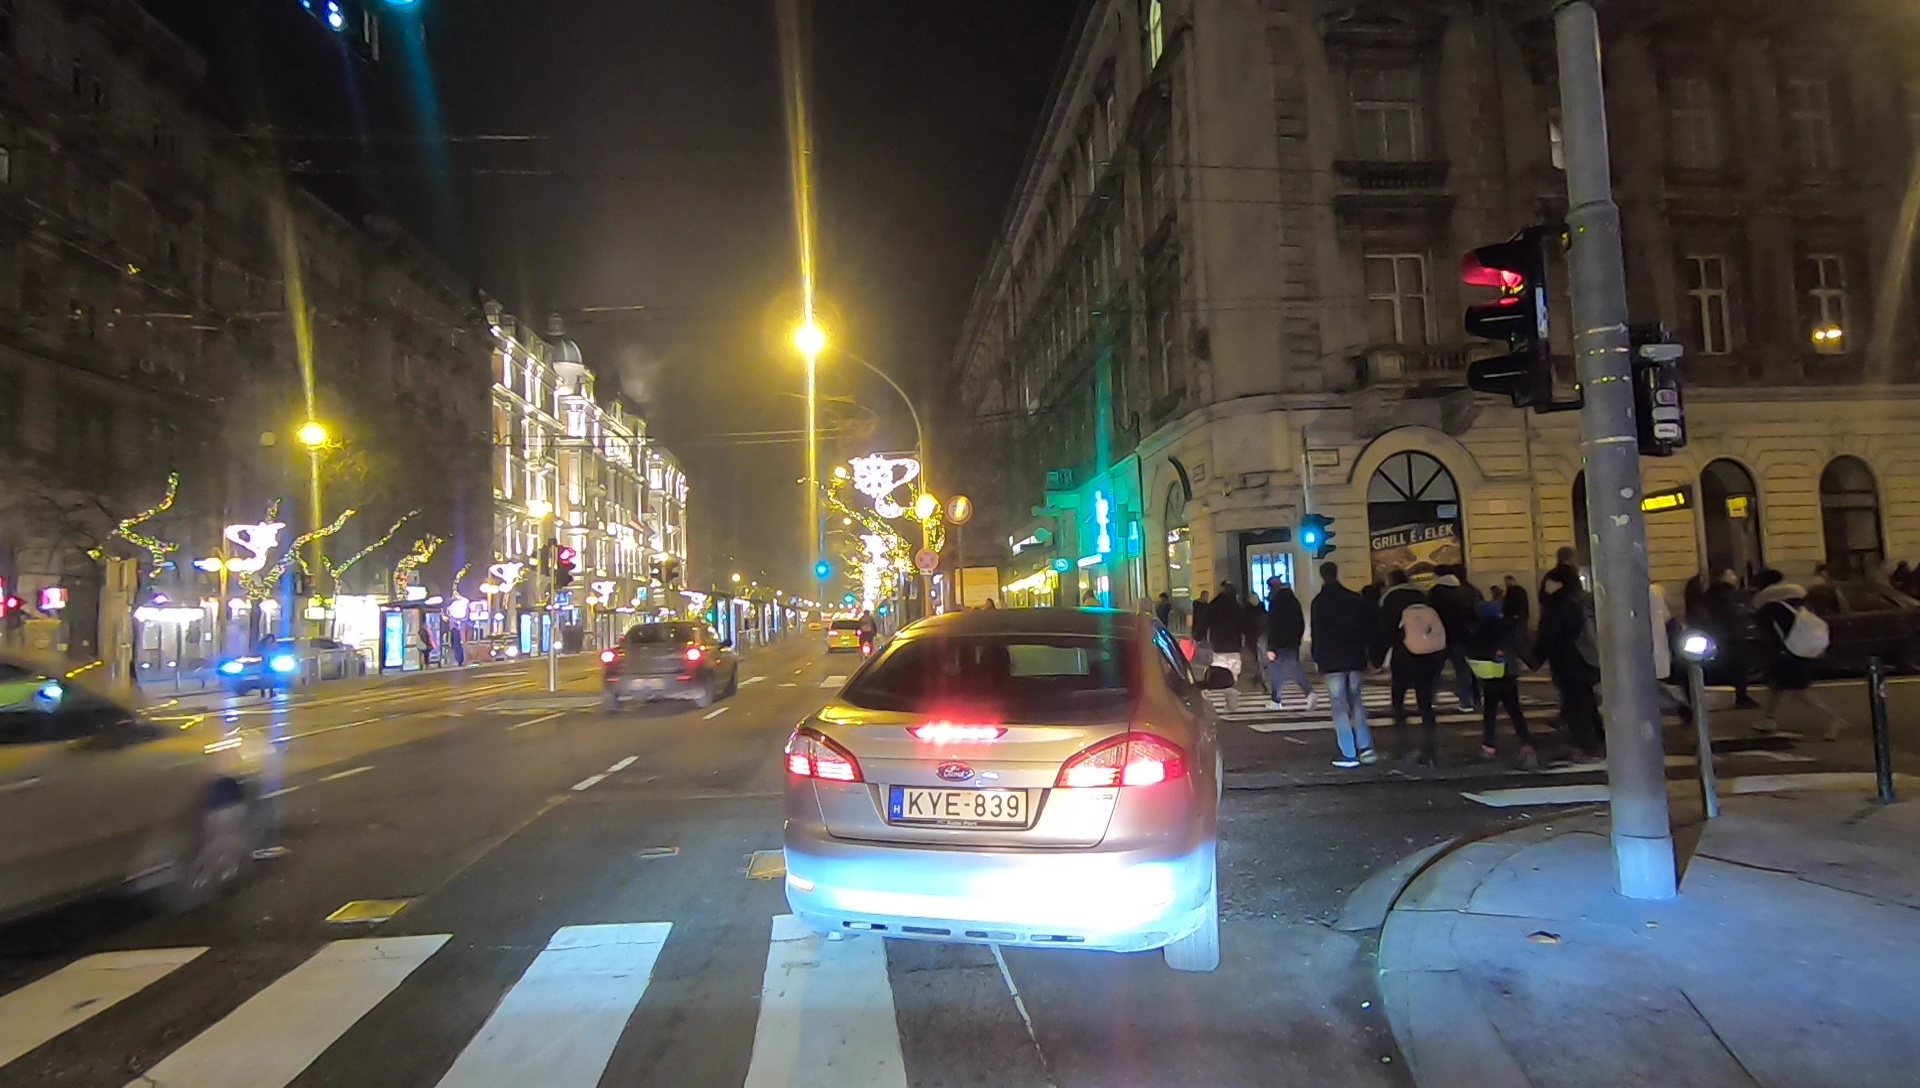person: (1753, 571, 1844, 736), (1375, 569, 1449, 772), (1314, 563, 1379, 771), (1537, 579, 1611, 744), (1695, 564, 1756, 710), (1471, 622, 1537, 753), (1261, 579, 1315, 702), (1206, 582, 1249, 691), (1504, 576, 1533, 646), (415, 624, 430, 668), (450, 622, 463, 663)
